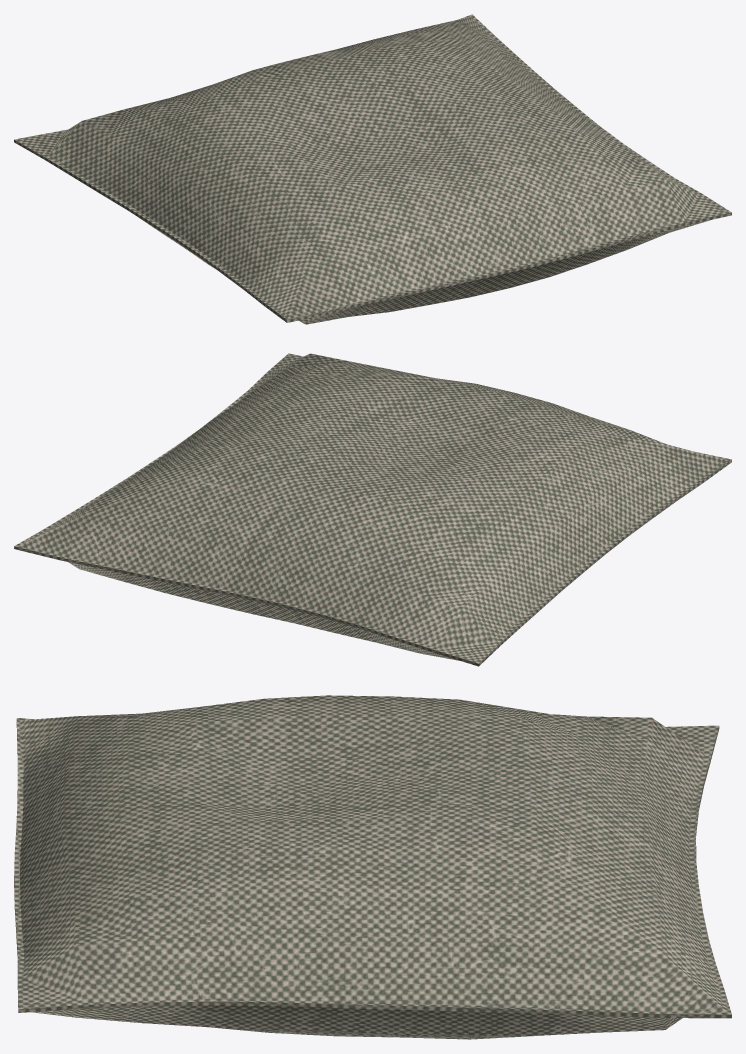
File: Pillows2.fbx
The picture shows the model from 3 angles, top to bottom: view 1: azimuth 30°, elevation 25°; view 2: azimuth 150°, elevation 25°; view 3: azimuth 270°, elevation 25°; orthographic projection. The views are drawn at different scales.
Parts seen in each view (by area): view 1: Pillow.000; view 2: Pillow.000; view 3: Pillow.000.
Boxes of the visible parts, <box> form: Pillow.000: <box>14,14,731,324</box>; Pillow.000: <box>14,353,731,666</box>; Pillow.000: <box>14,695,731,1039</box>.
Size of the model in its own units: 60.42 by 18.67 by 60.94.
Materials: 1 (1 with a texture image).
